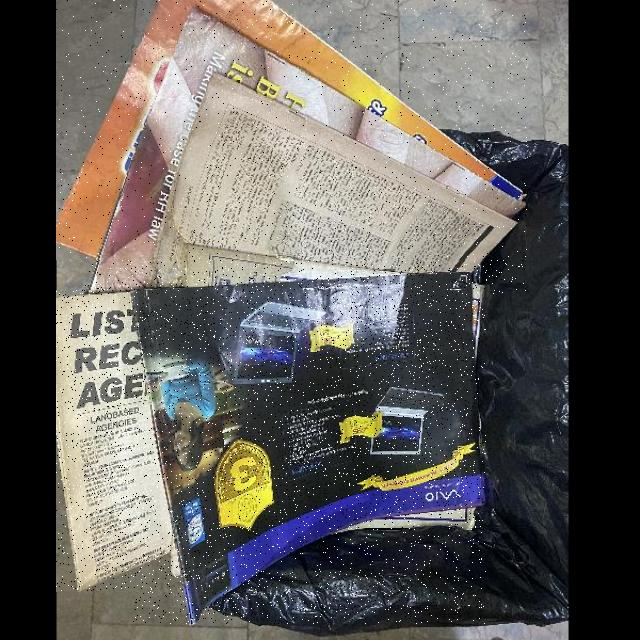paper: (85, 6, 527, 294), (134, 274, 486, 624), (56, 0, 524, 260), (146, 72, 519, 286), (56, 290, 176, 592)
